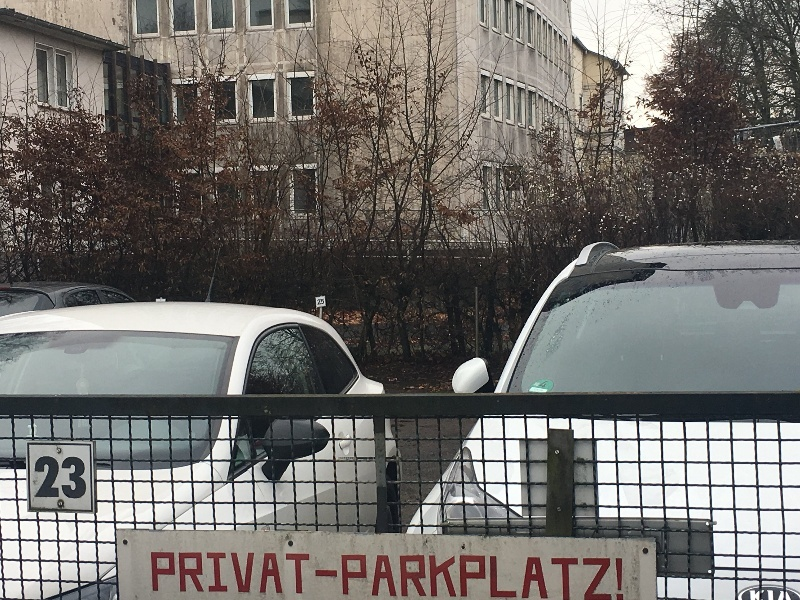text: (161, 550, 176, 600), (177, 550, 192, 600), (193, 550, 208, 600), (209, 550, 224, 600), (225, 550, 240, 600), (241, 550, 256, 600), (257, 550, 272, 600), (273, 550, 288, 600), (289, 550, 304, 600), (305, 550, 320, 600), (321, 550, 336, 600), (337, 550, 352, 600), (353, 550, 368, 600), (369, 550, 384, 600), (385, 550, 400, 600), (401, 550, 416, 600), (417, 550, 432, 600), (433, 550, 448, 600), (449, 550, 464, 600), (465, 550, 480, 600), (481, 550, 496, 600), (497, 550, 512, 600), (513, 550, 528, 600), (529, 550, 544, 600), (545, 550, 560, 600), (561, 550, 576, 600), (577, 550, 592, 600), (593, 550, 608, 600), (609, 550, 624, 600), (49, 457, 64, 501), (65, 457, 80, 501), (34, 457, 48, 501), (151, 550, 160, 600), (81, 457, 87, 501), (625, 550, 626, 600), (539, 380, 544, 389), (545, 380, 549, 389), (321, 299, 325, 305), (317, 299, 320, 305)
